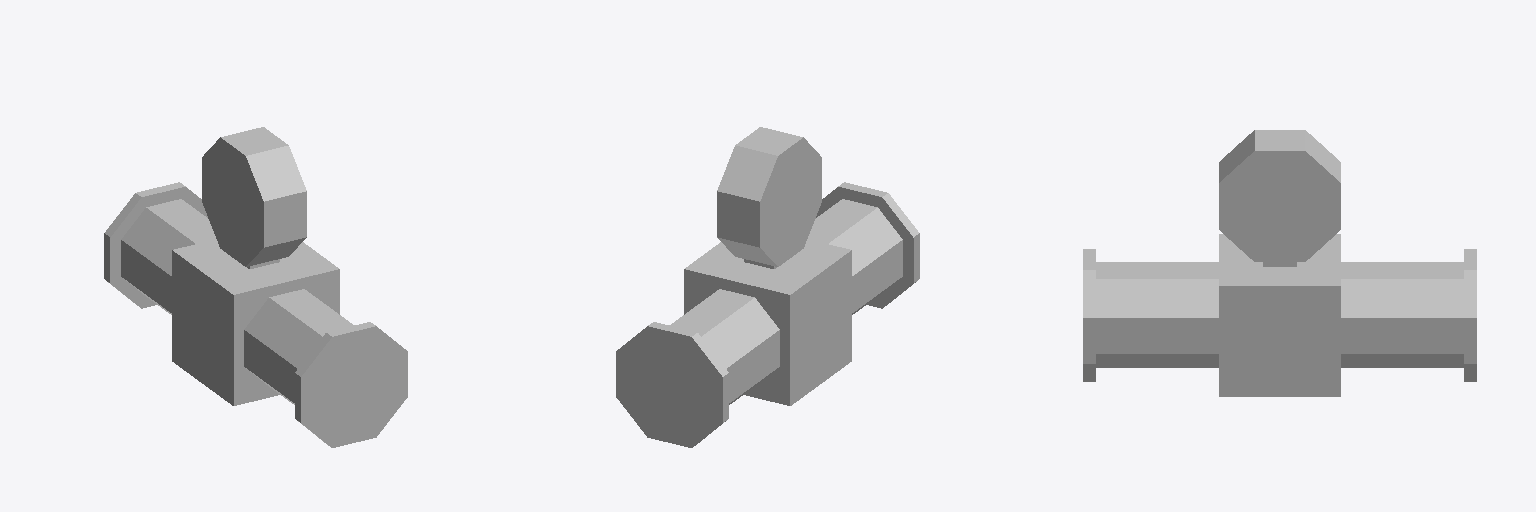
Rendered from pipeworks_pressure_gauge_lowpoly.obj.
3 renders of one model, left to right at view 1: azimuth 30°, elevation 25°; view 2: azimuth 150°, elevation 25°; view 3: azimuth 270°, elevation 25°, orthographic.
Visible parts, largest first — view 1: Cylinder.000; view 2: Cylinder.000; view 3: Cylinder.000.
Boxes of the visible parts, box(x1,y1,x2,y2) form: Cylinder.000: box(104, 127, 407, 447); Cylinder.000: box(616, 127, 919, 447); Cylinder.000: box(1083, 130, 1476, 396).
Size of the model in its own units: 0.3125 by 0.6446 by 1.